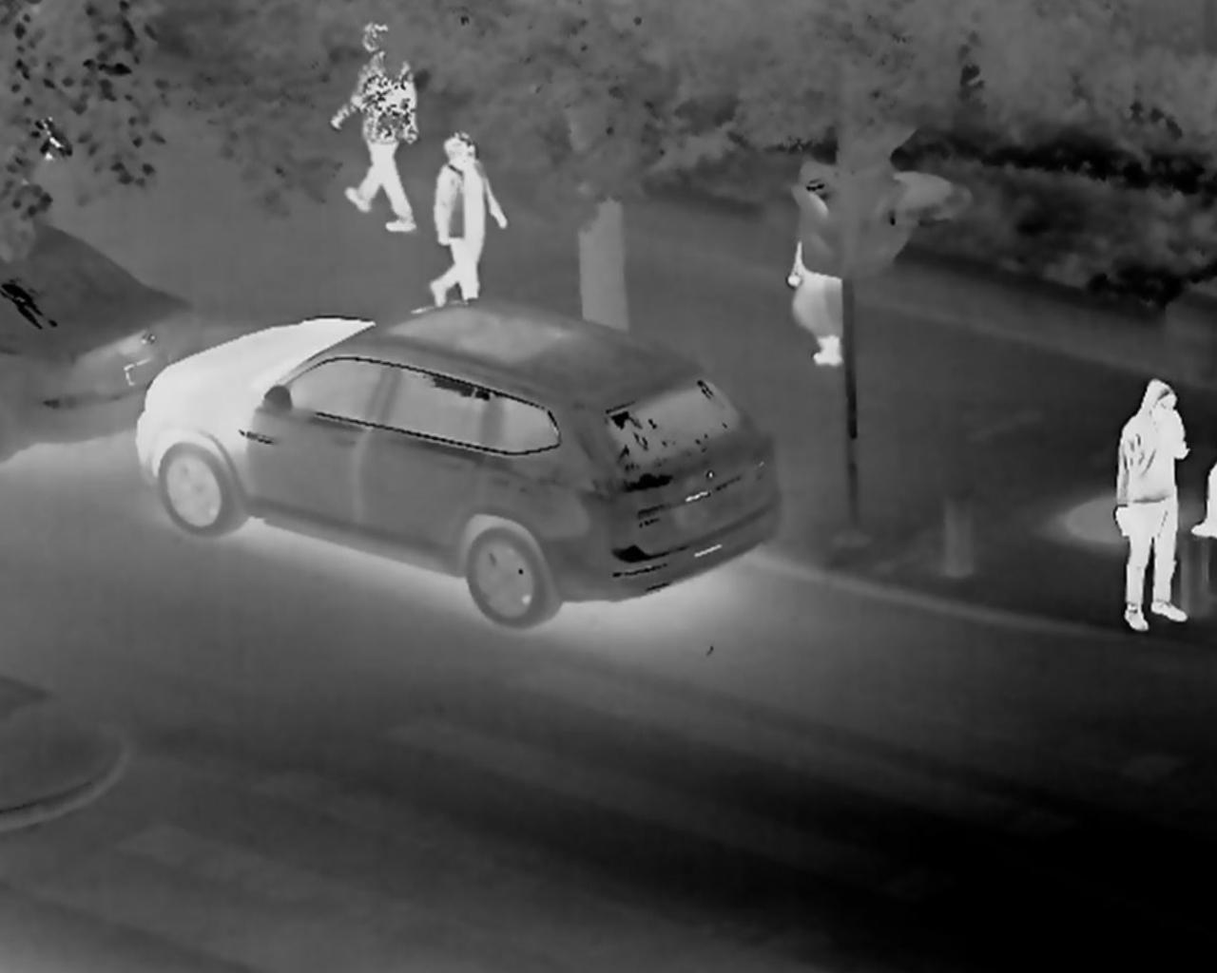person: (324, 21, 424, 238), (1110, 374, 1194, 632), (429, 128, 504, 307), (783, 229, 850, 368)
